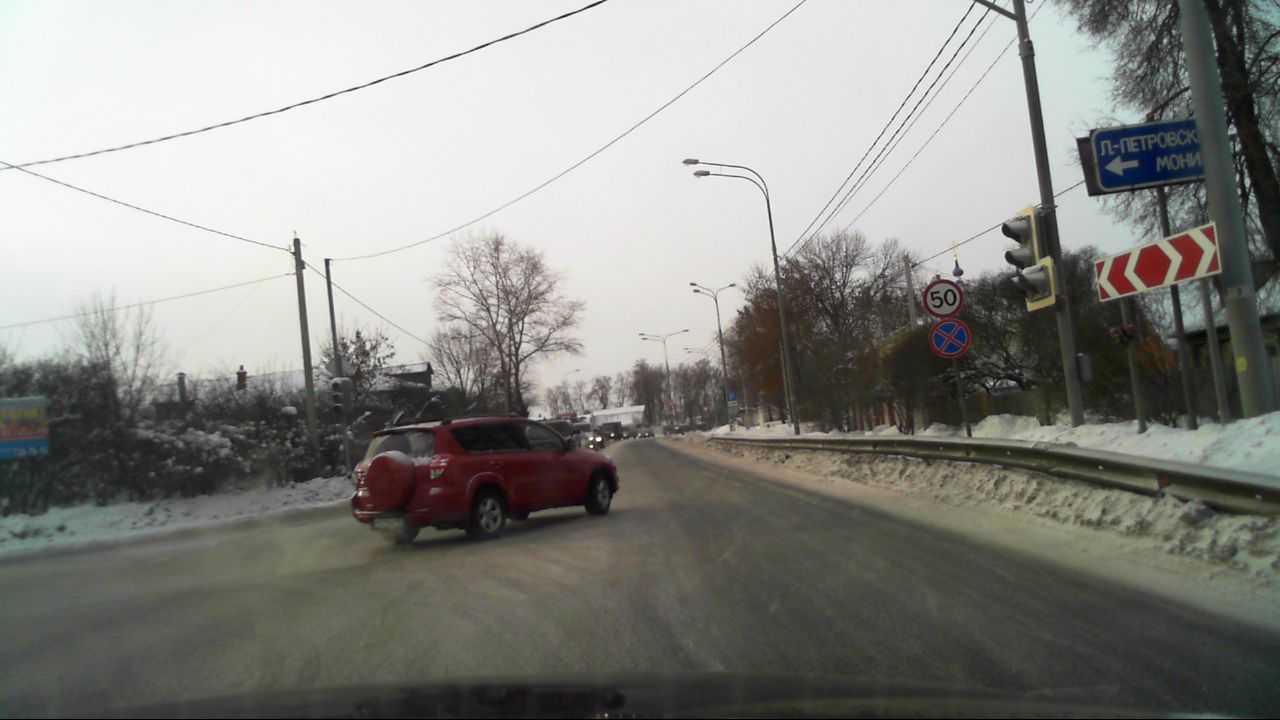No Parking: (930, 320, 968, 357)
